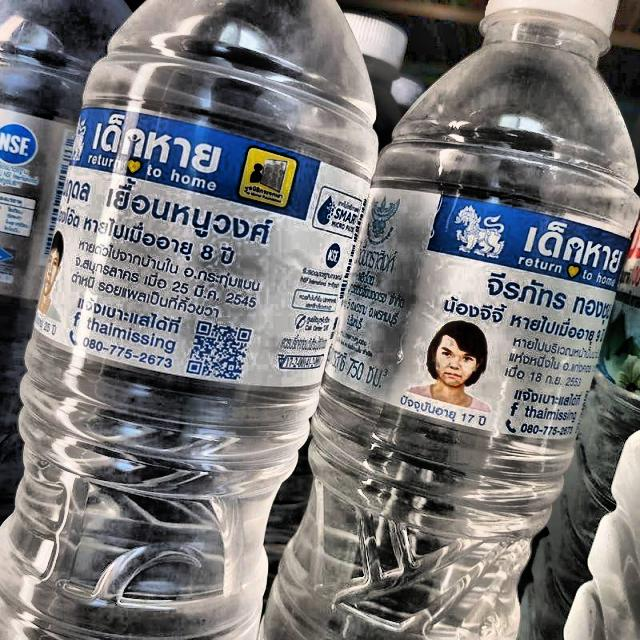plastic bottle: (261, 0, 640, 640), (1, 0, 378, 640)
